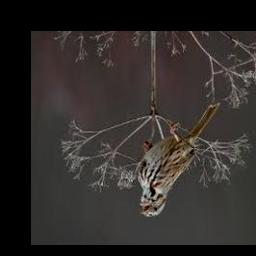Sparrow: (137, 102, 220, 218)
